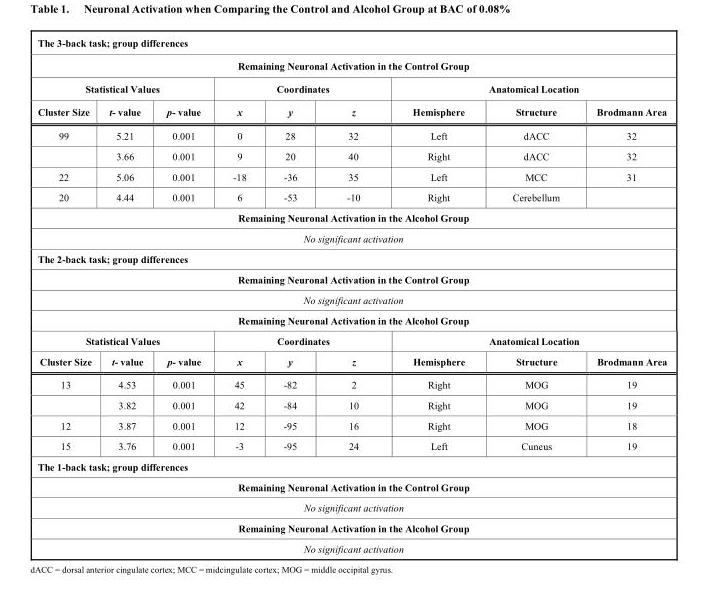table: (37, 36, 666, 553)
table column: (385, 36, 488, 553), (488, 36, 577, 553), (577, 36, 666, 553), (321, 36, 385, 553), (37, 36, 99, 553), (154, 36, 216, 553), (264, 36, 321, 553), (99, 36, 154, 553), (216, 36, 264, 553)
table column header: (37, 36, 666, 123)
table projected row header: (37, 227, 666, 248), (37, 268, 666, 289), (37, 309, 666, 330), (37, 455, 666, 476), (37, 476, 666, 497), (37, 517, 666, 538), (37, 207, 666, 227), (37, 248, 666, 268), (37, 289, 666, 309), (37, 497, 666, 517), (37, 538, 666, 553)
table row: (37, 99, 666, 123), (37, 53, 666, 76), (37, 76, 666, 99), (37, 123, 666, 145), (37, 350, 666, 372), (37, 372, 666, 394), (37, 145, 666, 166), (37, 186, 666, 207), (37, 227, 666, 248), (37, 268, 666, 289), (37, 309, 666, 330), (37, 394, 666, 415), (37, 455, 666, 476), (37, 476, 666, 497), (37, 517, 666, 538), (37, 166, 666, 186), (37, 207, 666, 227), (37, 248, 666, 268), (37, 289, 666, 309), (37, 330, 666, 350), (37, 415, 666, 435), (37, 435, 666, 455), (37, 497, 666, 517), (37, 36, 666, 53), (37, 538, 666, 553)
table spanning cell: (37, 36, 666, 76), (385, 76, 666, 99), (385, 330, 666, 350), (37, 76, 216, 99), (216, 76, 385, 99), (37, 330, 216, 350), (216, 330, 385, 350), (37, 123, 99, 166), (37, 372, 99, 415)
